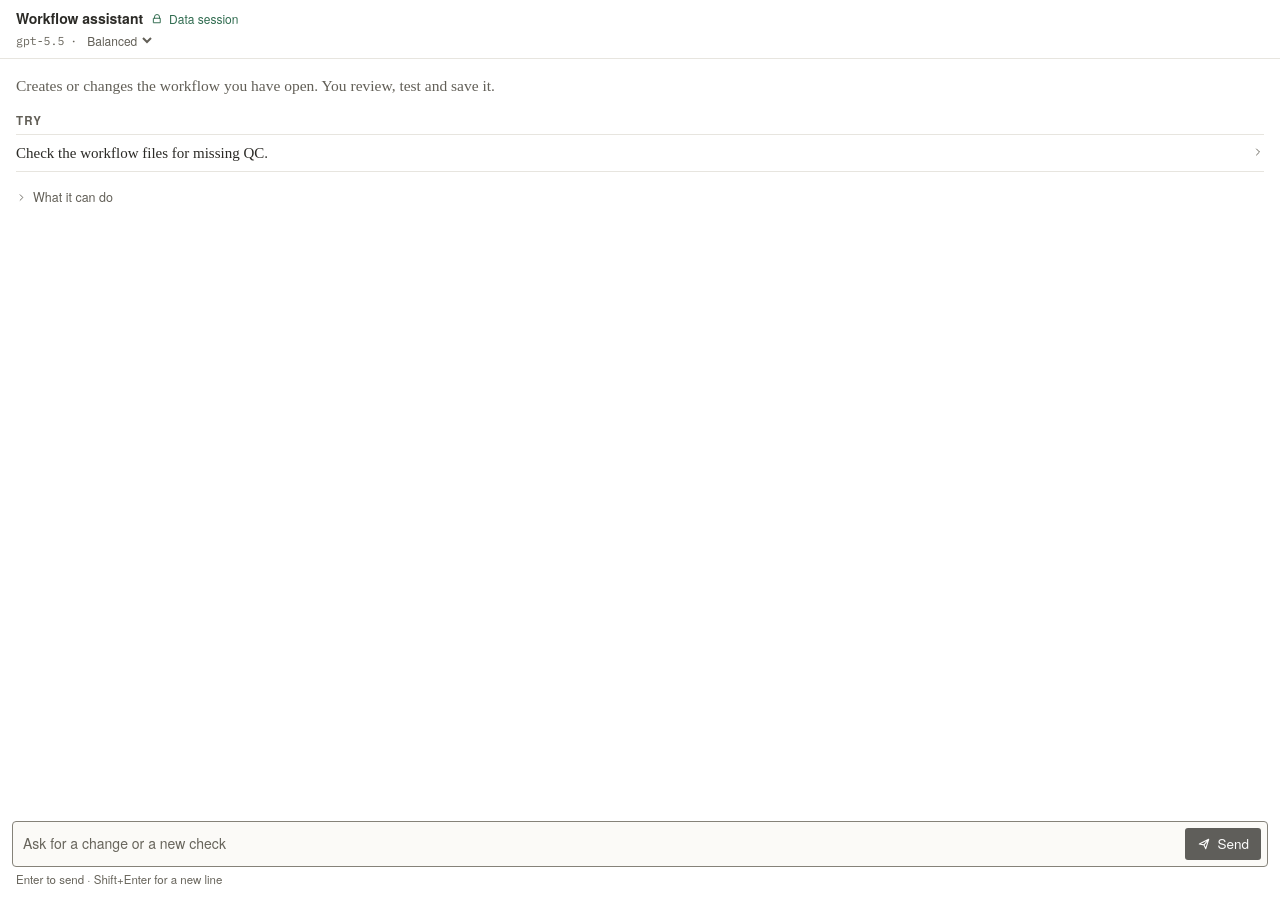
gives the workflows tab's chat a compact intro: a title, one sentence, its starters, and what it can do folded
Expected: the heading "Workflow assistant" is shown, [16, 8, 143, 29]
Expected: the element with test id "compact-intro" shows "Creates or changes the workflow you have open. You review, test and save it.", [16, 77, 495, 94]
Click the button "What it can do": (64,198) [16, 188, 113, 207]
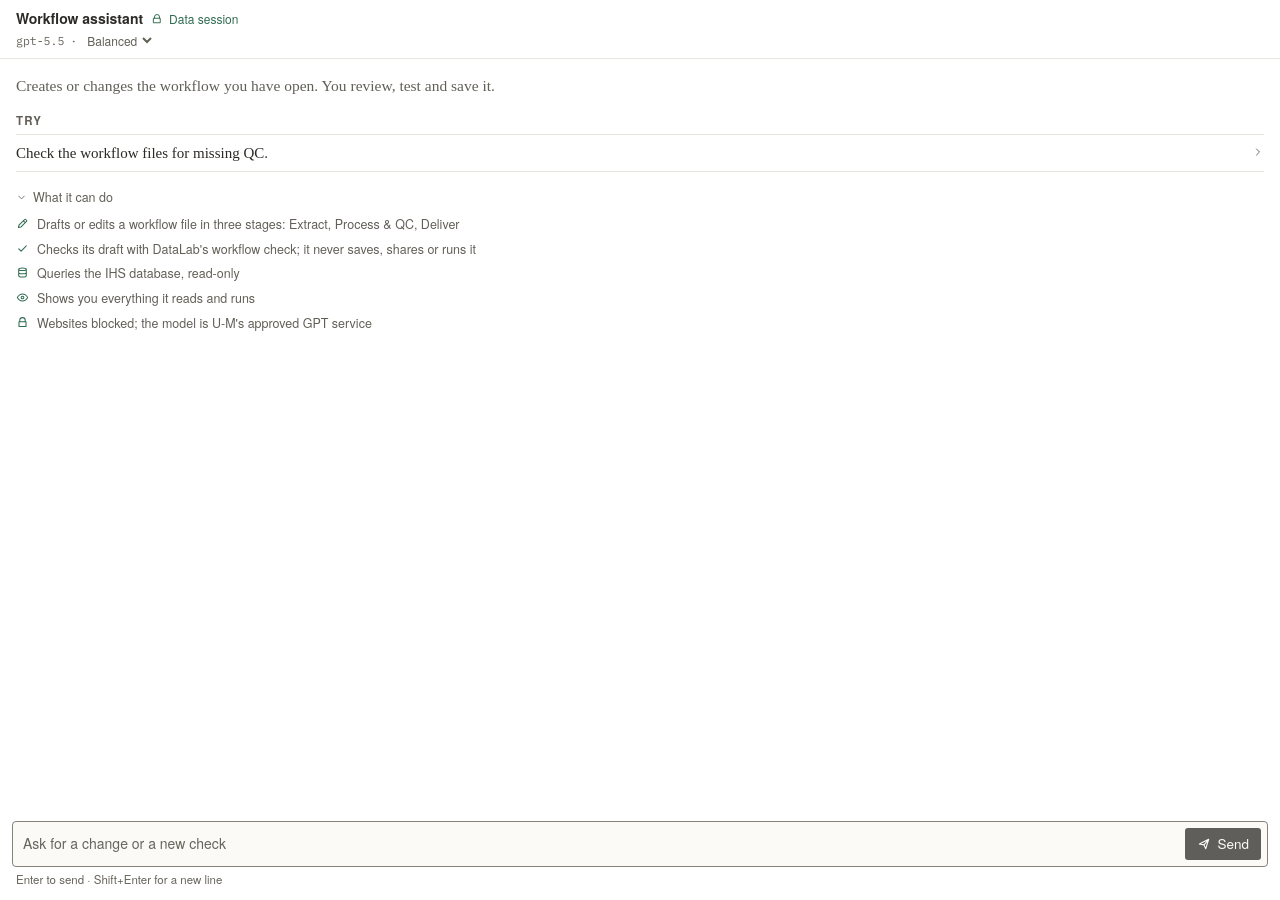
Now the button "What it can do" is expanded, box [16, 188, 113, 207]
Now the list item "Drafts or edits a workflow file in three stages: Extract, Process & QC, Deliver" is shown, box [16, 215, 460, 233]
Now the list item "Websites blocked; the model is U-M's approved GPT service" is shown, box [16, 314, 372, 332]
